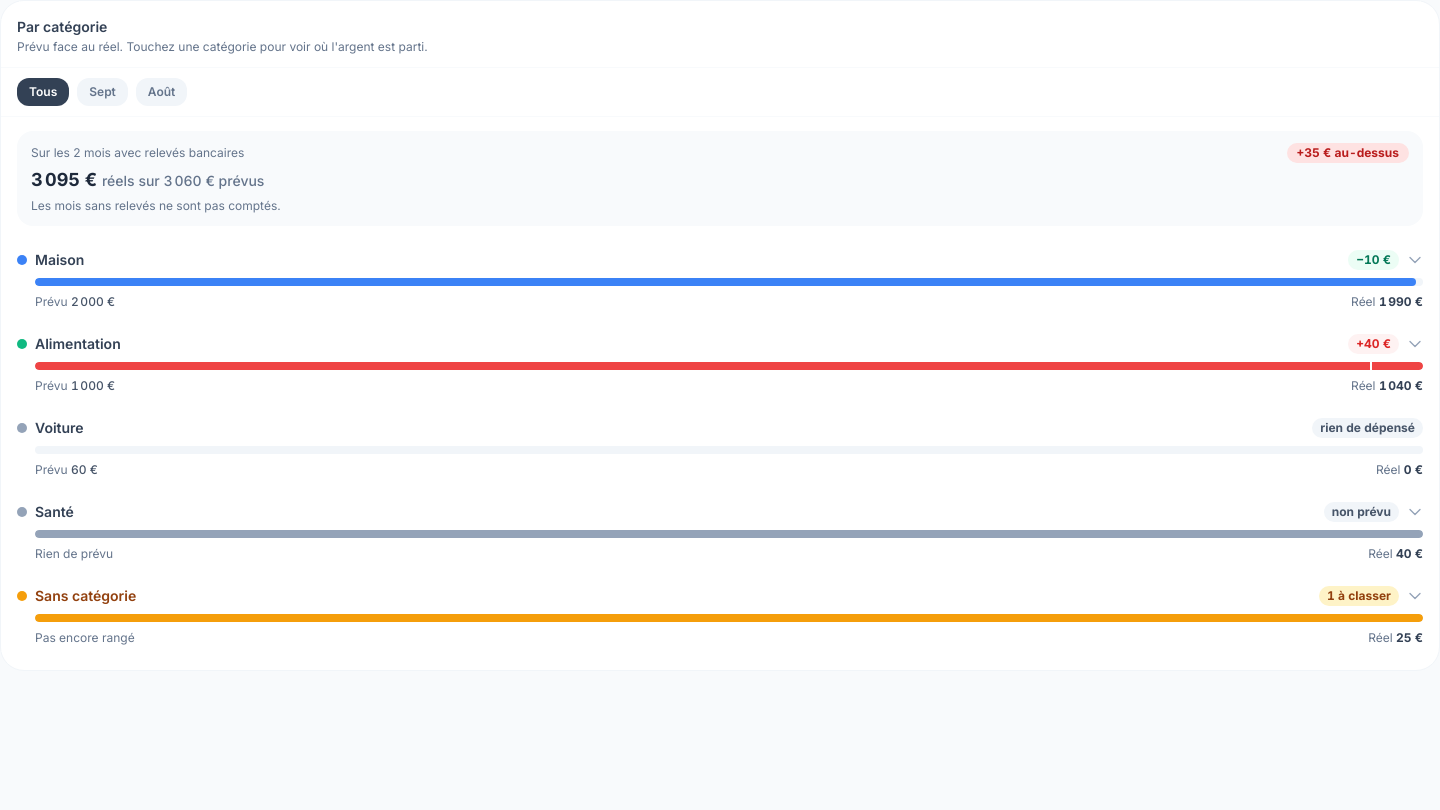
it: CategoryBreakdown › une catégorie dépliée montre ses commerçants
The image size is (1440, 810).
Click the button "Alimentation +40 € Prévu 1 000 € Réel 1 040 €": x=720, y=364 [9,322,1431,406]
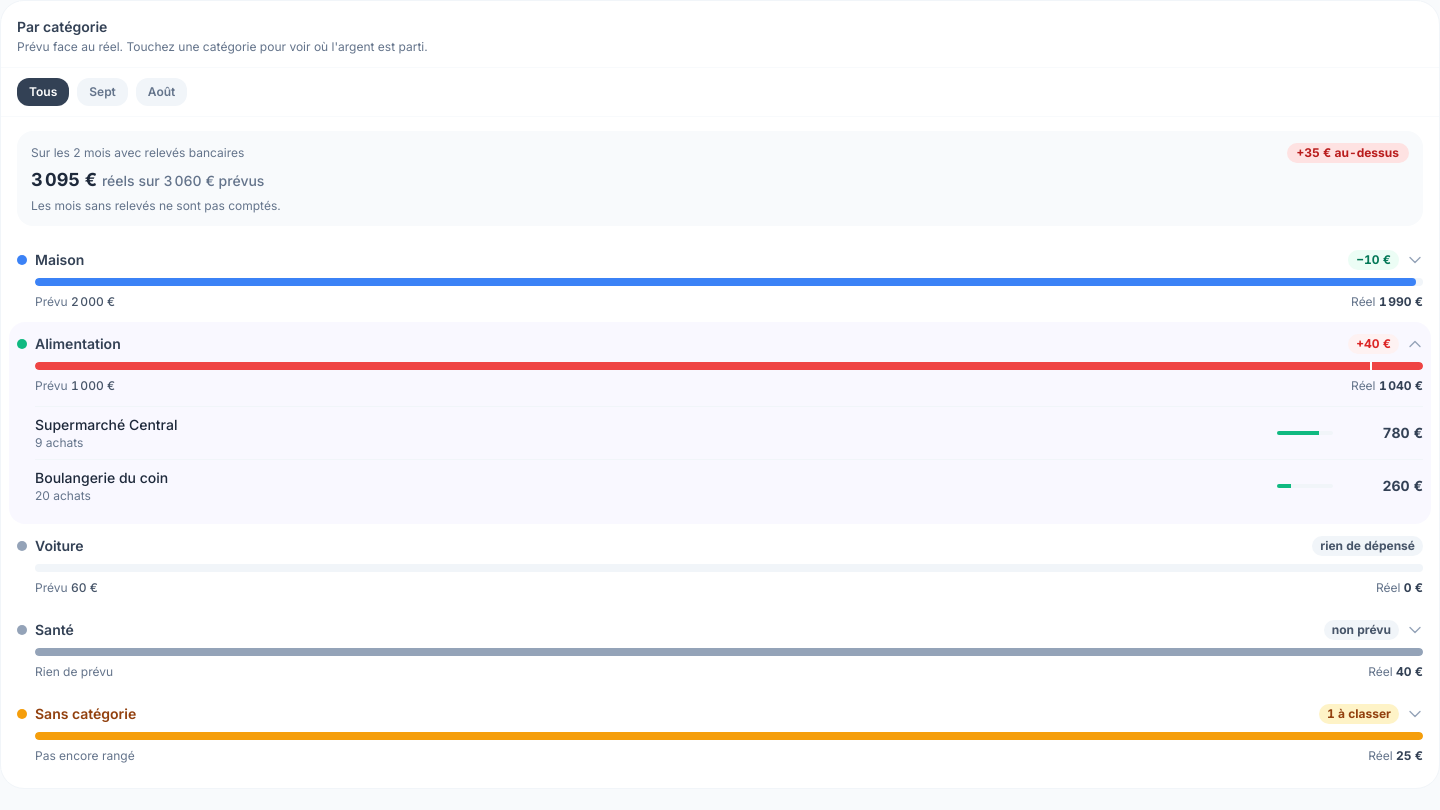
expect the text "Supermarché Central" is shown: met, box [35,416,177,432]
expect the text "9 achats" is shown: met, box [35,434,83,450]
expect the text "780 €" is shown: met, box [1382,424,1423,440]
